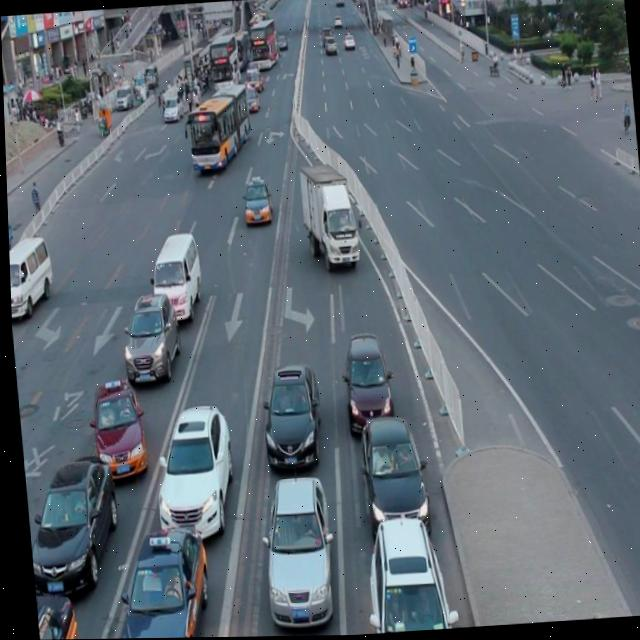bus: (296, 164, 358, 268)
car: (20, 449, 120, 598), (144, 396, 236, 541), (101, 517, 209, 639), (252, 470, 333, 628), (356, 509, 448, 635), (354, 407, 427, 533), (253, 358, 322, 470), (84, 372, 147, 479), (114, 287, 181, 383), (338, 331, 393, 442), (31, 587, 74, 640), (239, 179, 272, 226)
truck: (146, 231, 203, 325), (7, 234, 53, 318)
van: (185, 84, 252, 174)
